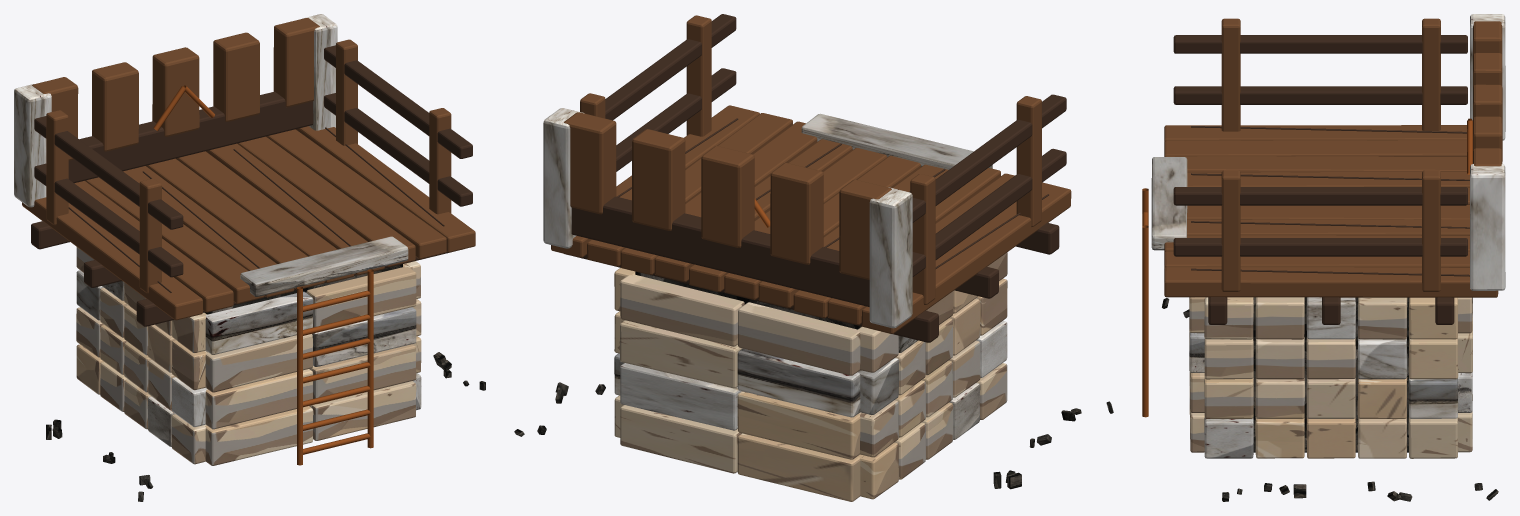
File: archer_platform_low_2m_LOD0.glb
3 views of the same model, side by side, from view 1: azimuth 30°, elevation 25°; view 2: azimuth 150°, elevation 25°; view 3: azimuth 270°, elevation 25° (orthographic). The views are drawn at different scales.
Visible parts, largest first — view 1: ArcherFrontLowerRail, ArcherDeckPlank, ArcherDeckPlank.008, ArcherAccessThreshold, ArcherDeckPlank.009, ArcherDeckPlank.007, ArcherPierAshlar.006, ArcherDeckPlank.004, ArcherDeckPlank.006, ArcherDeckPlank.005, ArcherFrontMerlon.001, ArcherFrontMerlon.003 (+45 smaller); view 2: ArcherFrontLowerRail, ArcherPierAshlar.014, ArcherMarbleEndPost, ArcherPierAshlar.015, ArcherDeckPlank, ArcherPierAshlar.012, ArcherPierAshlar.008, ArcherPierAshlar.010, ArcherPierAshlar.009, ArcherPierAshlar.013, ArcherPierAshlar.011, ArcherFrontMerlon.001 (+42 smaller); view 3: ArcherDeckPlank.009, ArcherDeckPlank.001, ArcherSideRail.002, ArcherSideRail.003, ArcherSideRail, ArcherSideRail.001, ArcherMarbleEndPost.001, ArcherDeckPlank.002, ArcherDeckPlank, ArcherDeckPlank.006, ArcherDeckPlank.005, ArcherDeckPlank.003 (+50 smaller).
Part boxes in pixels (x1,y1,x2,y2): ArcherFrontLowerRail: (68, 91, 313, 183); ArcherDeckPlank: (22, 197, 202, 320); ArcherDeckPlank.008: (266, 129, 446, 259); ArcherAccessThreshold: (240, 236, 408, 296); ArcherDeckPlank.009: (296, 126, 475, 252); ArcherDeckPlank.007: (237, 136, 415, 266); ArcherPierAshlar.006: (205, 291, 313, 354); ArcherDeckPlank.004: (146, 158, 324, 289); ArcherDeckPlank.006: (206, 143, 384, 275); ArcherDeckPlank.005: (176, 151, 354, 282); ArcherFrontMerlon.001: (92, 62, 138, 151); ArcherFrontMerlon.003: (213, 32, 259, 121); ArcherFrontLowerRail: (571, 196, 869, 306); ArcherPierAshlar.014: (738, 302, 860, 375); ArcherMarbleEndPost: (869, 187, 912, 328); ArcherPierAshlar.015: (620, 274, 744, 346); ArcherDeckPlank: (861, 182, 1071, 333); ArcherPierAshlar.012: (737, 348, 860, 417); ArcherPierAshlar.008: (737, 433, 860, 501); ArcherPierAshlar.010: (737, 391, 860, 459); ArcherPierAshlar.009: (620, 405, 741, 473); ArcherPierAshlar.013: (620, 320, 742, 388); ArcherPierAshlar.011: (620, 363, 741, 430); ArcherFrontMerlon.001: (770, 163, 823, 264); ArcherDeckPlank.009: (1164, 267, 1498, 297); ArcherDeckPlank.001: (1164, 140, 1466, 156); ArcherSideRail.002: (1173, 238, 1467, 256); ArcherSideRail.003: (1173, 187, 1467, 205); ArcherSideRail: (1173, 86, 1467, 104); ArcherSideRail.001: (1173, 35, 1467, 53); ArcherMarbleEndPost.001: (1470, 164, 1505, 290); ArcherDeckPlank.002: (1165, 156, 1466, 172); ArcherDeckPlank: (1164, 125, 1466, 142); ArcherDeckPlank.006: (1187, 219, 1469, 235); ArcherDeckPlank.005: (1187, 205, 1469, 219); ArcherDeckPlank.003: (1187, 171, 1469, 187).
Size of the model in its own units: 4.6 by 3.31 by 3.48.
6 materials, 3 textured.
